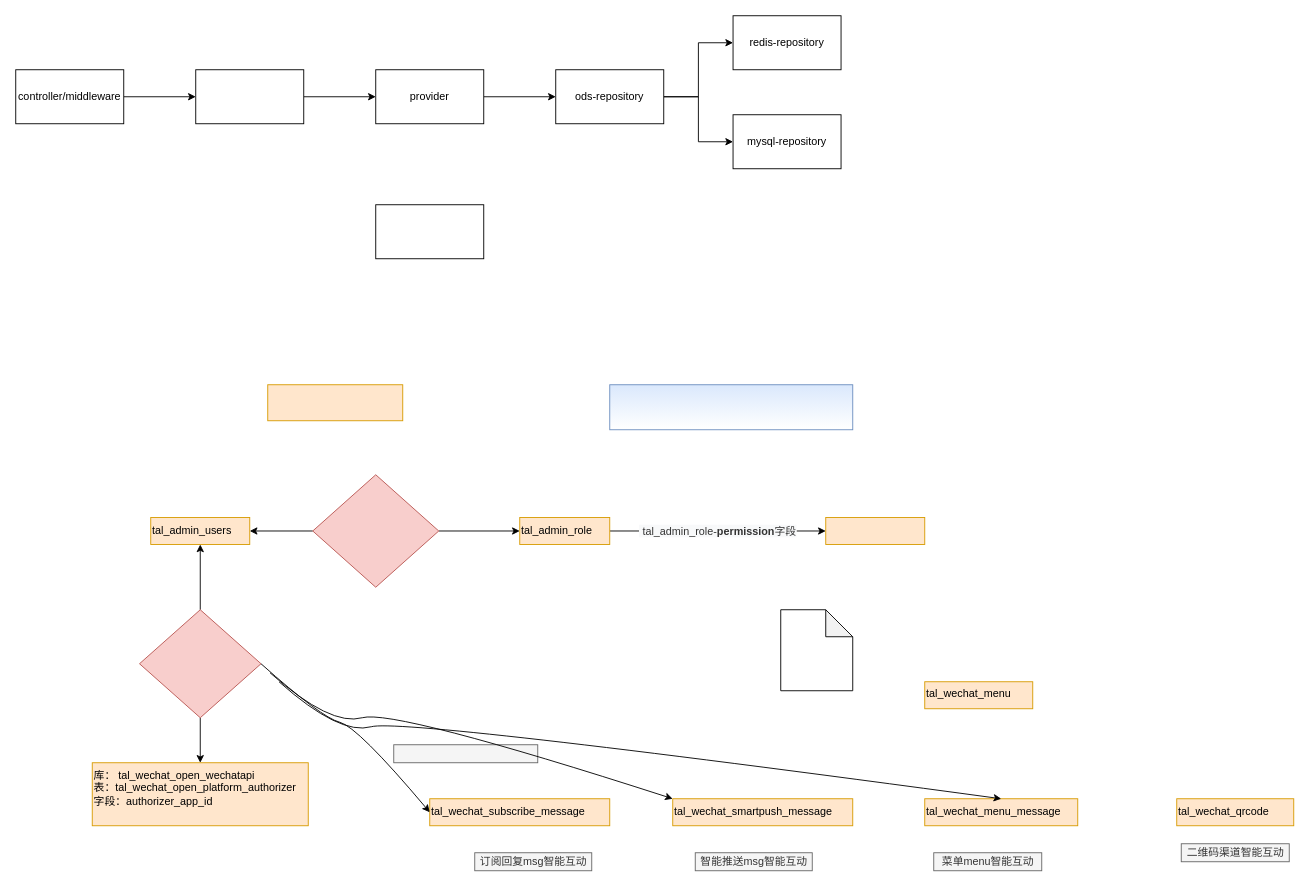
Image size: 1310x887. Some labels were removed from this diagram. The shapes that lost their labels are listed below. From the top down, each one's centre as x and y in pixels, then its label:
the point at 249,96: service
the point at 429,231: remote-httpapi
the point at 335,402: tal_admin_operate_log 操作日志
the point at 731,407: 超级管理人员不受权限控制，不好理解系统
the point at 375,530: tal_admin_user_role
the point at 875,530: tal_admin_menu
the point at 200,663: tal_admin_user_app
the point at 816,650: 智能互动
the point at 465,753: 智能推送，根据自己绑定的
